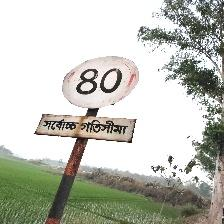Speed-limit: (35, 55, 140, 144)
